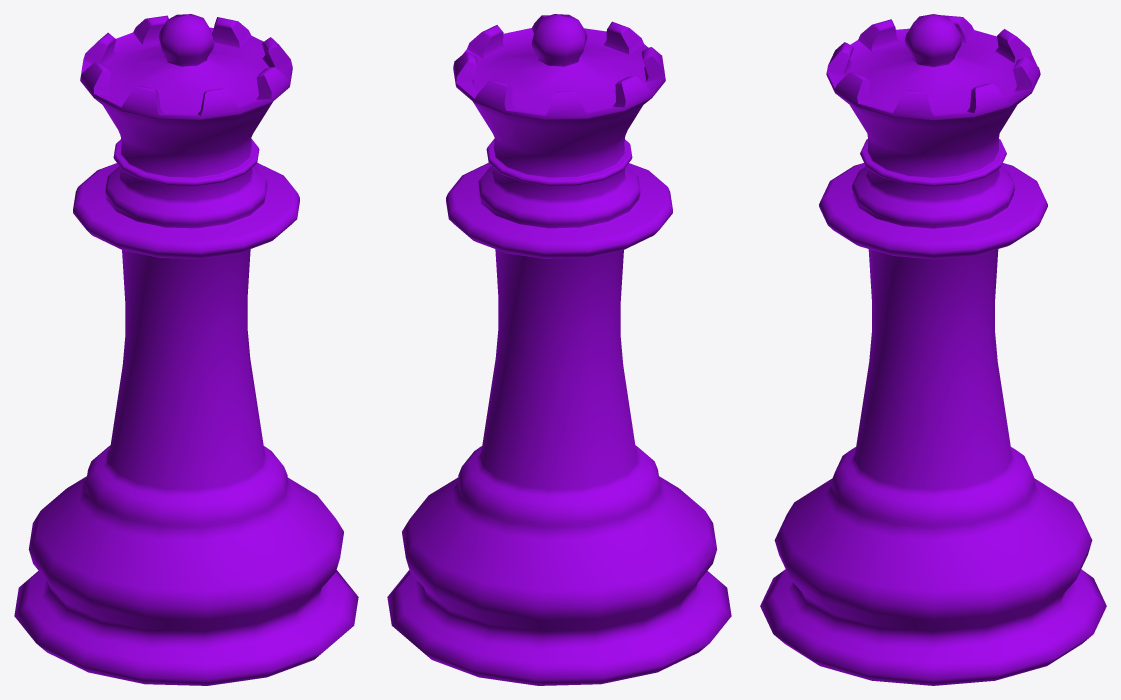
The model's file is Queen.glb.
The picture shows the model from 3 angles, left to right: view 1: azimuth 30°, elevation 25°; view 2: azimuth 150°, elevation 25°; view 3: azimuth 270°, elevation 25°; orthographic projection.
Visible parts, largest first — view 1: SM_BlackQueen; view 2: SM_BlackQueen; view 3: SM_BlackQueen.
Boxes of the visible parts, box(x1,y1,x2,y2) form: SM_BlackQueen: box(14, 14, 358, 685); SM_BlackQueen: box(387, 14, 731, 685); SM_BlackQueen: box(760, 14, 1106, 685).
Bounding box in the file's own units: 0.6028 × 1.17 × 0.6028.
